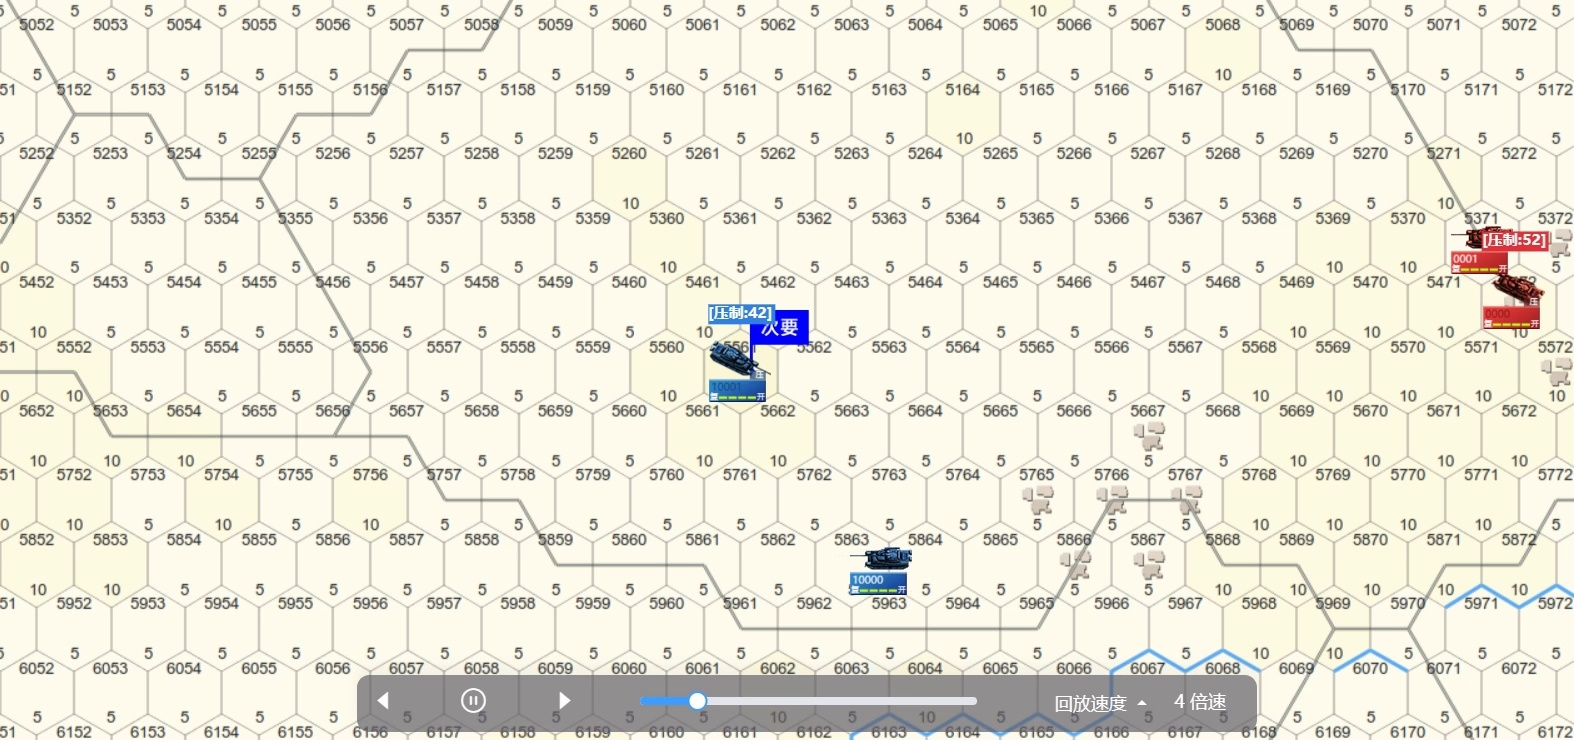blue_tank: (706, 345, 770, 398), (856, 550, 913, 591)
red_tank: (1484, 272, 1543, 323), (1444, 230, 1509, 276), (1448, 230, 1506, 269)
